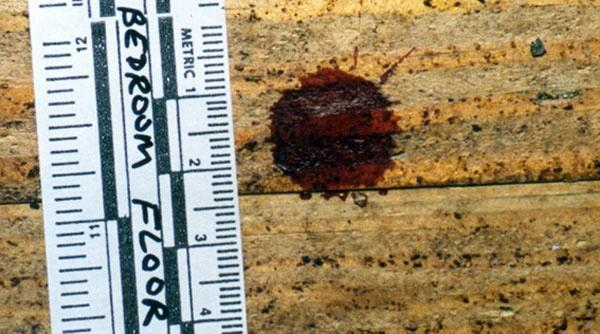Fire: (265, 45, 408, 207)
